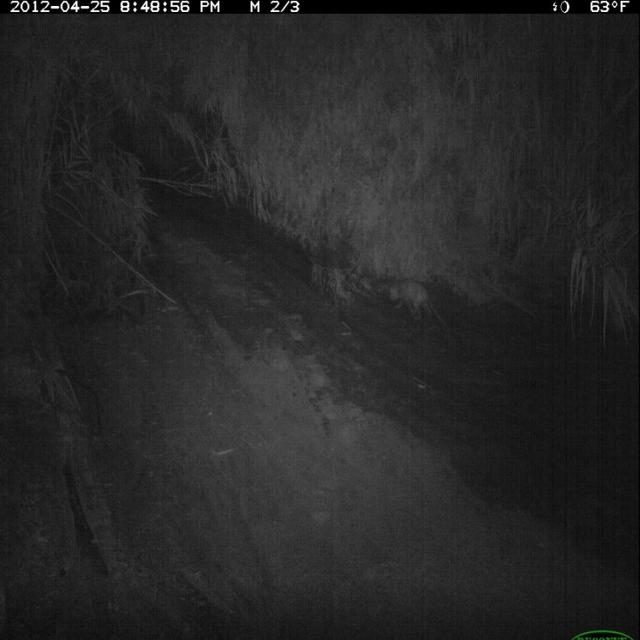opossum: (388, 274, 455, 332)
